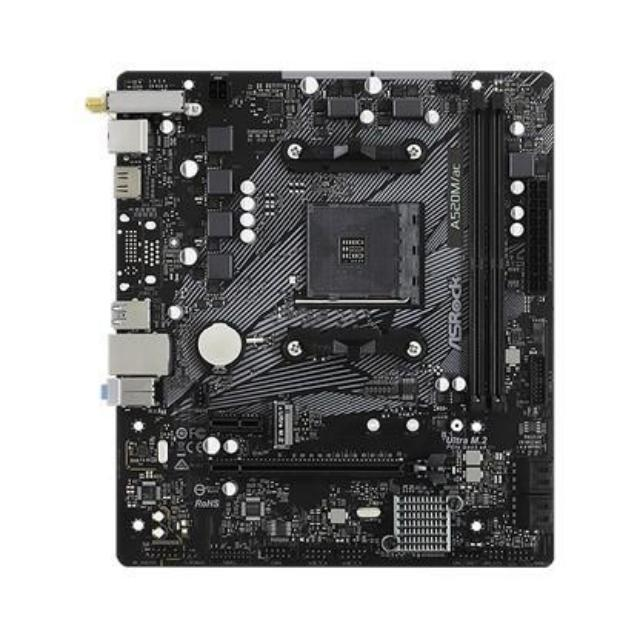Mainboard: (110, 70, 562, 576)
